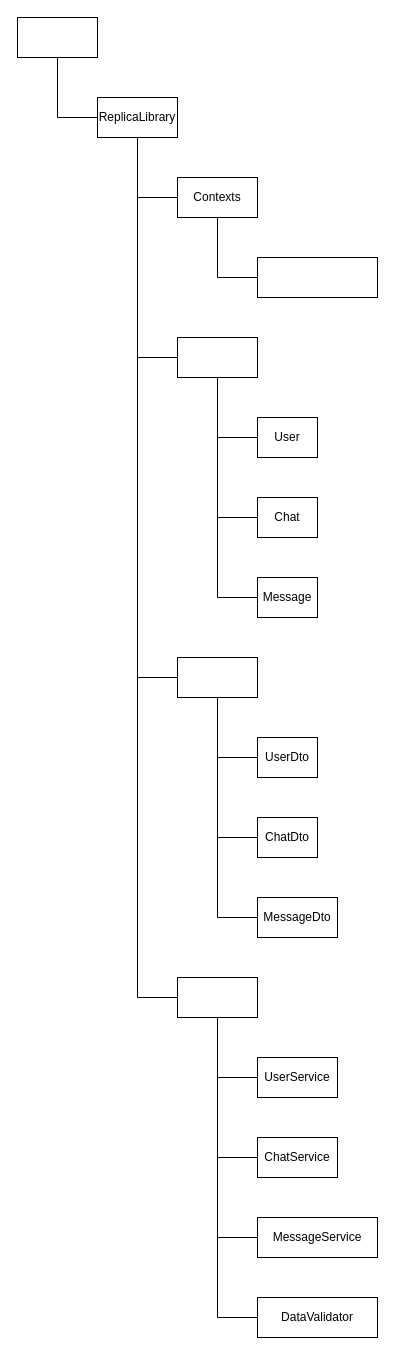
The diagram is 395 pixels wide and 1355 high, and some of its shapes have lost their labels. Each missing label, with the centre of its shape:
DTOs: the point at 217,677
Models: the point at 217,357
ReplicaApp: the point at 57,37
ReplicaDbContext: the point at 317,277
Services: the point at 217,997
